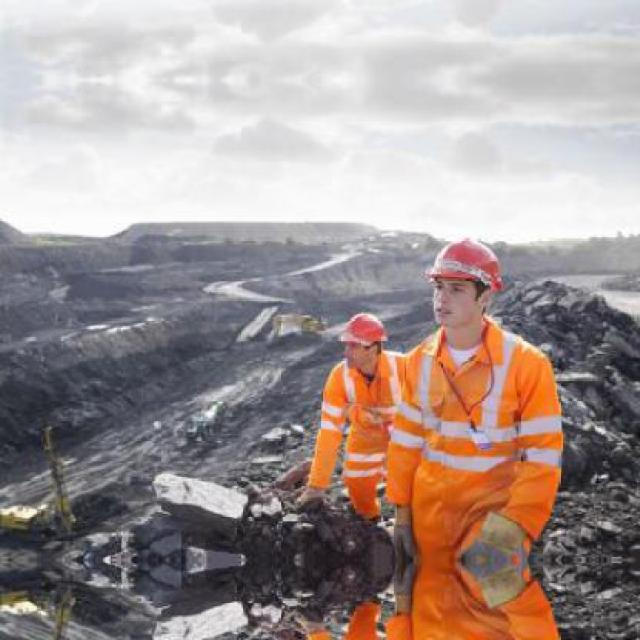helmet: (418, 228, 512, 338), (337, 308, 389, 366)
